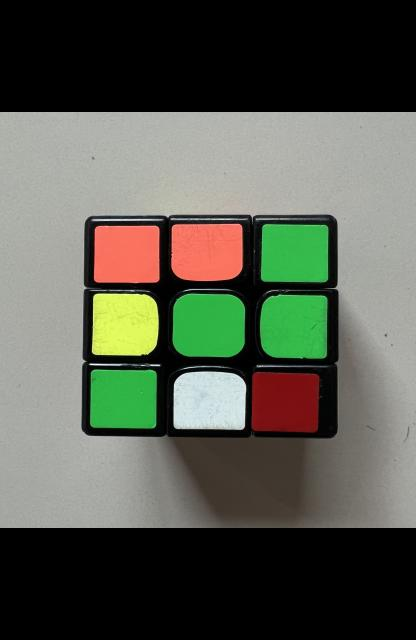Green: (172, 293, 244, 357), (259, 295, 327, 359), (259, 224, 328, 282), (89, 370, 156, 428)
Orange: (170, 224, 242, 281), (93, 226, 159, 283)
Red: (250, 372, 319, 433)
White: (172, 371, 245, 429)
Yellow: (90, 293, 158, 356)
